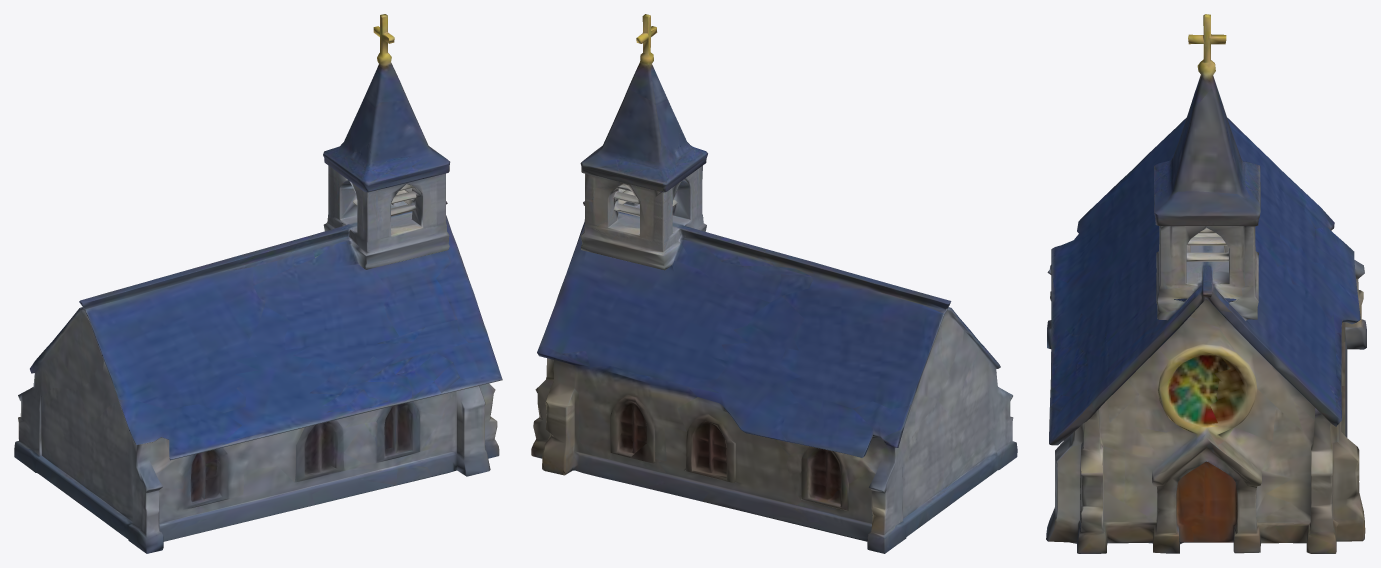
The model's file is church.glb.
The picture shows the model from 3 angles, left to right: view 1: azimuth 30°, elevation 25°; view 2: azimuth 150°, elevation 25°; view 3: azimuth 270°, elevation 25°; orthographic projection. The views are drawn at different scales.
Visible parts, largest first — view 1: ChurchBody; view 2: ChurchBody; view 3: ChurchBody.
Part boxes in pixels (left/top/right/bottom): ChurchBody: left=14, top=14, right=502, bottom=553; ChurchBody: left=531, top=14, right=1017, bottom=553; ChurchBody: left=1046, top=14, right=1366, bottom=553.
Size of the model in its own units: 12 by 12.99 by 7.51.
Materials: 1 (1 with a texture image).
